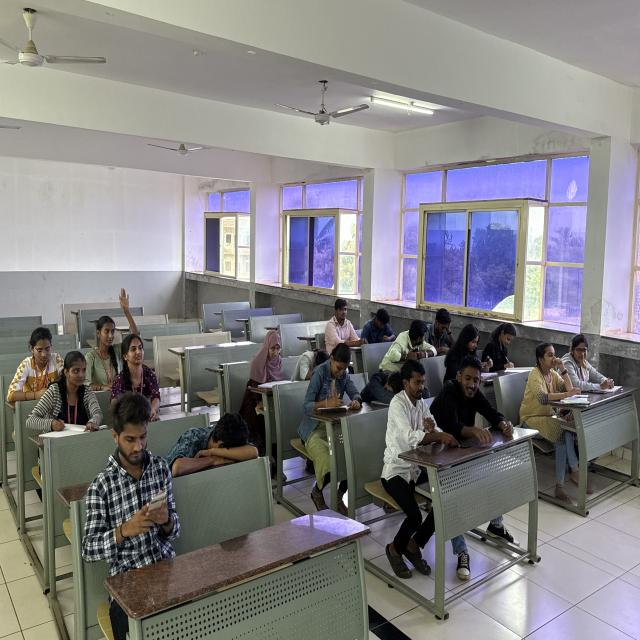Hand Rising: (94, 279, 140, 393)
Reading: (241, 329, 295, 398), (424, 308, 459, 357)
Sleeping: (156, 406, 261, 489)
Using Phone: (77, 389, 184, 564)
Writing: (15, 347, 116, 439), (302, 342, 364, 431), (485, 320, 521, 375)
